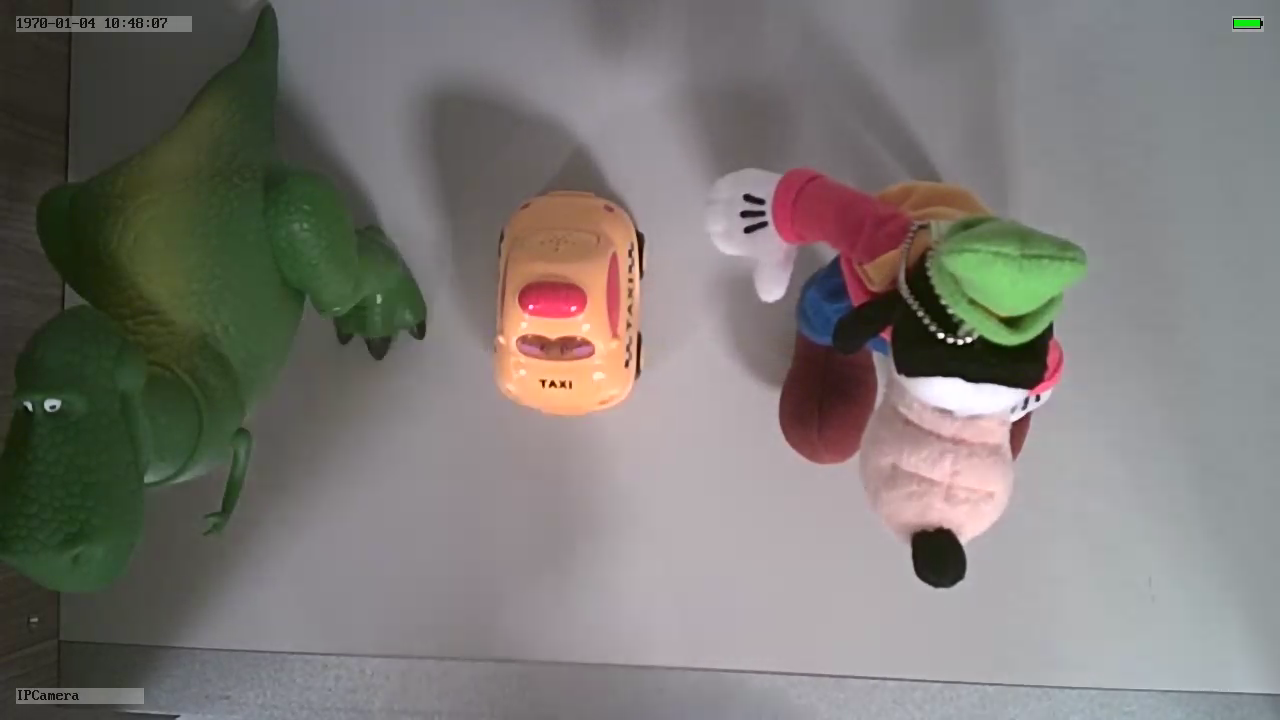goofy: (702, 161, 1093, 600)
